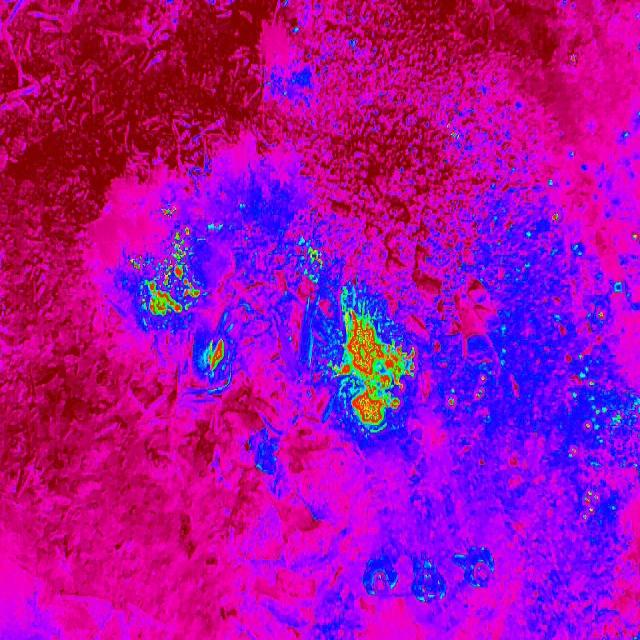fire: (535, 206, 640, 532), (336, 306, 416, 436), (128, 223, 204, 318), (440, 369, 490, 409), (204, 337, 232, 377), (302, 241, 328, 283), (157, 204, 176, 218)
